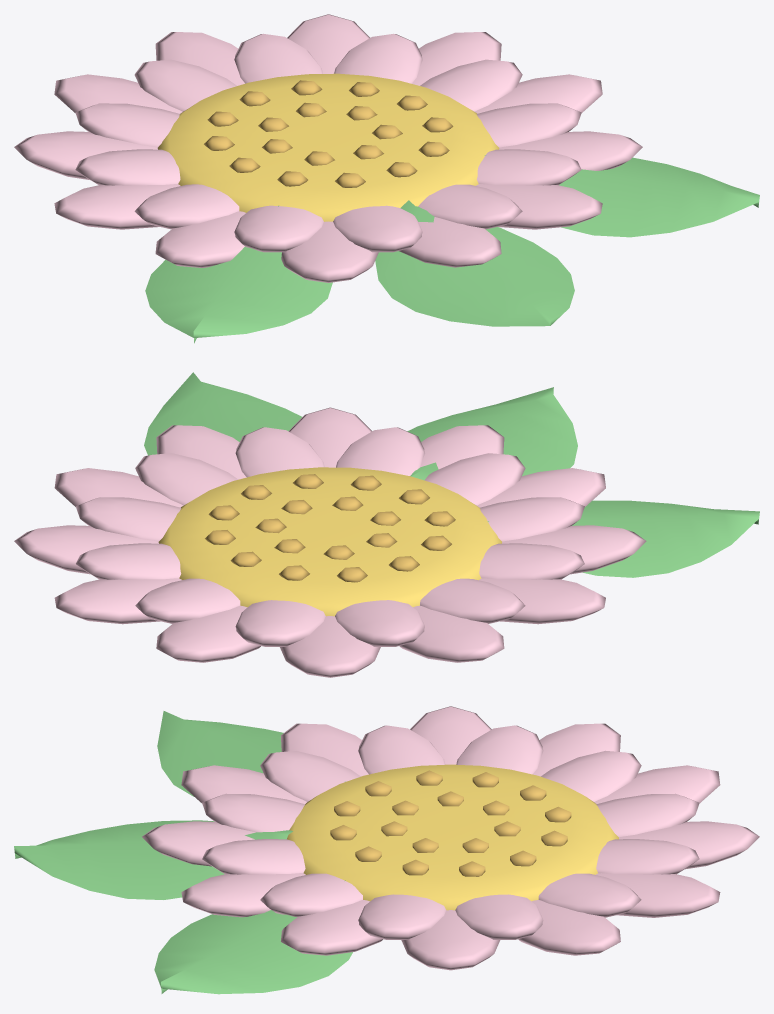
File: HoneyDaisyPad.glb
3 views of the same model, one above another, from view 1: azimuth 30°, elevation 25°; view 2: azimuth 150°, elevation 25°; view 3: azimuth 270°, elevation 25° (orthographic). The views are drawn at different scales.
Parts seen in each view (by area): view 1: Petals, Leaves, Center, Seeds; view 2: Petals, Center, Leaves, Seeds; view 3: Petals, Center, Leaves, Seeds.
Boxes of the visible parts, bbox=[...] form: Petals: bbox=[14, 14, 642, 282]; Leaves: bbox=[145, 155, 759, 343]; Center: bbox=[157, 73, 499, 221]; Seeds: bbox=[204, 80, 453, 187]; Petals: bbox=[14, 407, 646, 677]; Center: bbox=[158, 467, 501, 616]; Leaves: bbox=[144, 372, 759, 577]; Seeds: bbox=[205, 474, 455, 582]; Petals: bbox=[142, 706, 759, 970]; Center: bbox=[287, 764, 618, 910]; Leaves: bbox=[14, 711, 352, 994]; Seeds: bbox=[330, 770, 571, 876].
Bounding box in the file's own units: 4.98 × 0.4133 × 5.79.
